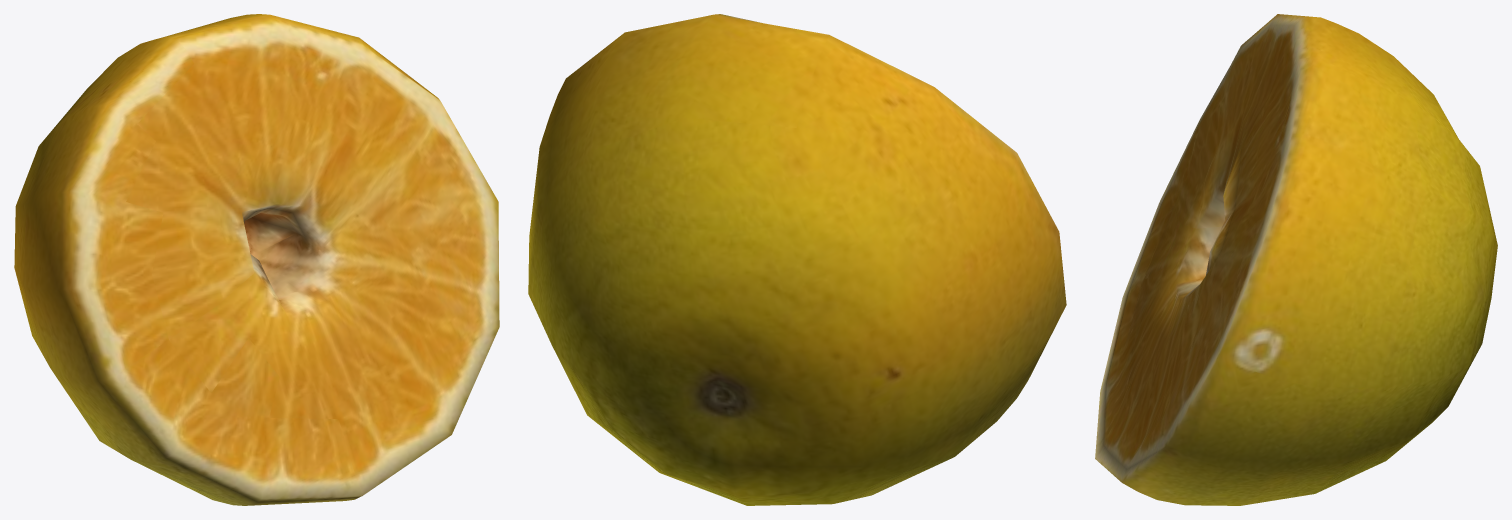
Rendered from A24_Orange_low.fbx.
3 renders of one model, left to right at view 1: azimuth 30°, elevation 25°; view 2: azimuth 150°, elevation 25°; view 3: azimuth 270°, elevation 25°, orthographic. The views are drawn at different scales.
Visible parts, largest first — view 1: A24_Orange_low; view 2: A24_Orange_low; view 3: A24_Orange_low.
Boxes of the visible parts, x1=… form: A24_Orange_low: x1=14, y1=14, x2=499, y2=505; A24_Orange_low: x1=528, y1=14, x2=1066, y2=505; A24_Orange_low: x1=1095, y1=14, x2=1497, y2=505.
Size of the model in its own units: 4.43 by 3.48 by 4.19.
1 material, 1 textured.
